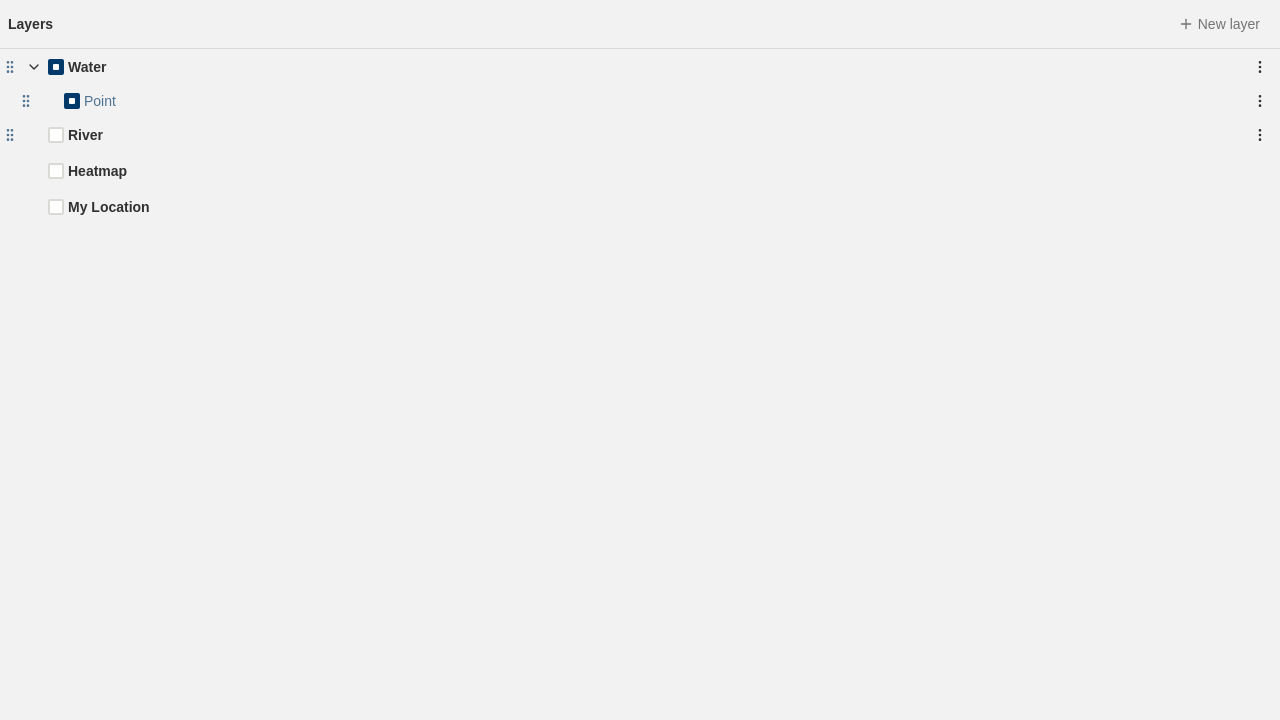
Test: LayerTreePanel › excludes layers the feature already belongs to from the duplicate-to-layer picker
Click the button named "feature options" at (1260, 101), box [1248,89,1272,113]
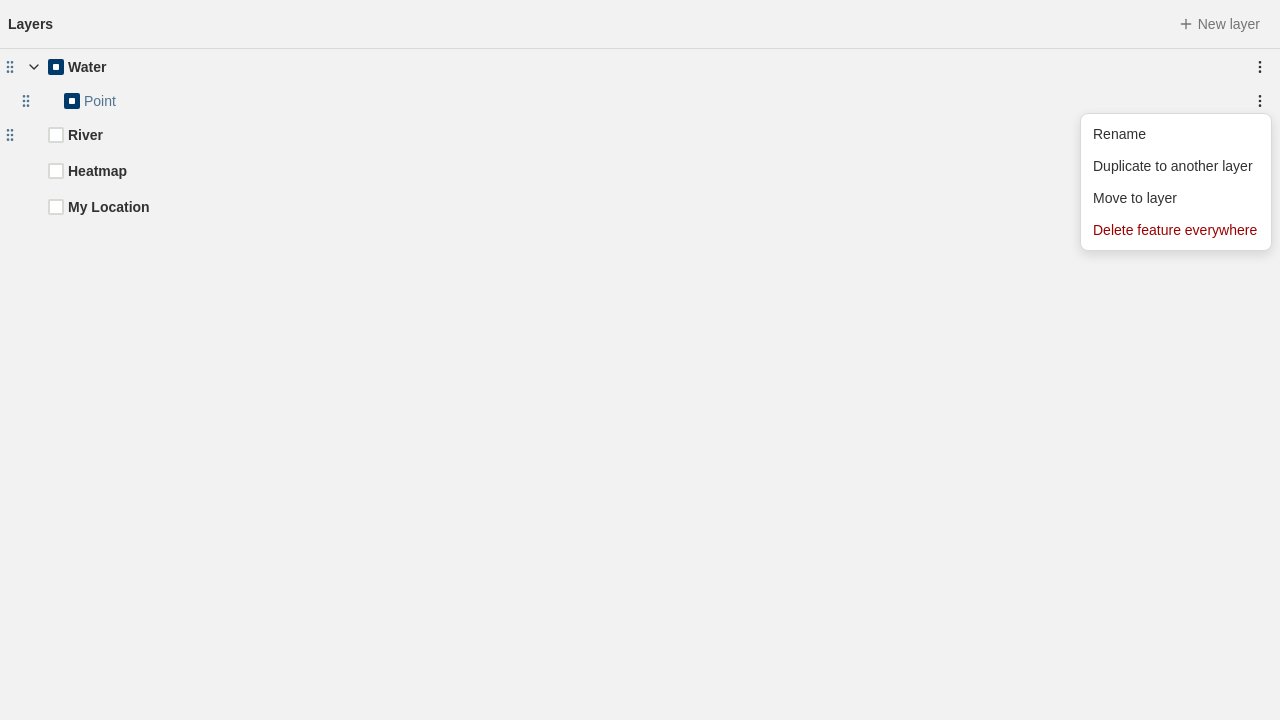
Click the menu item "Duplicate to another layer" at (1173, 166), box [1093,158,1252,174]
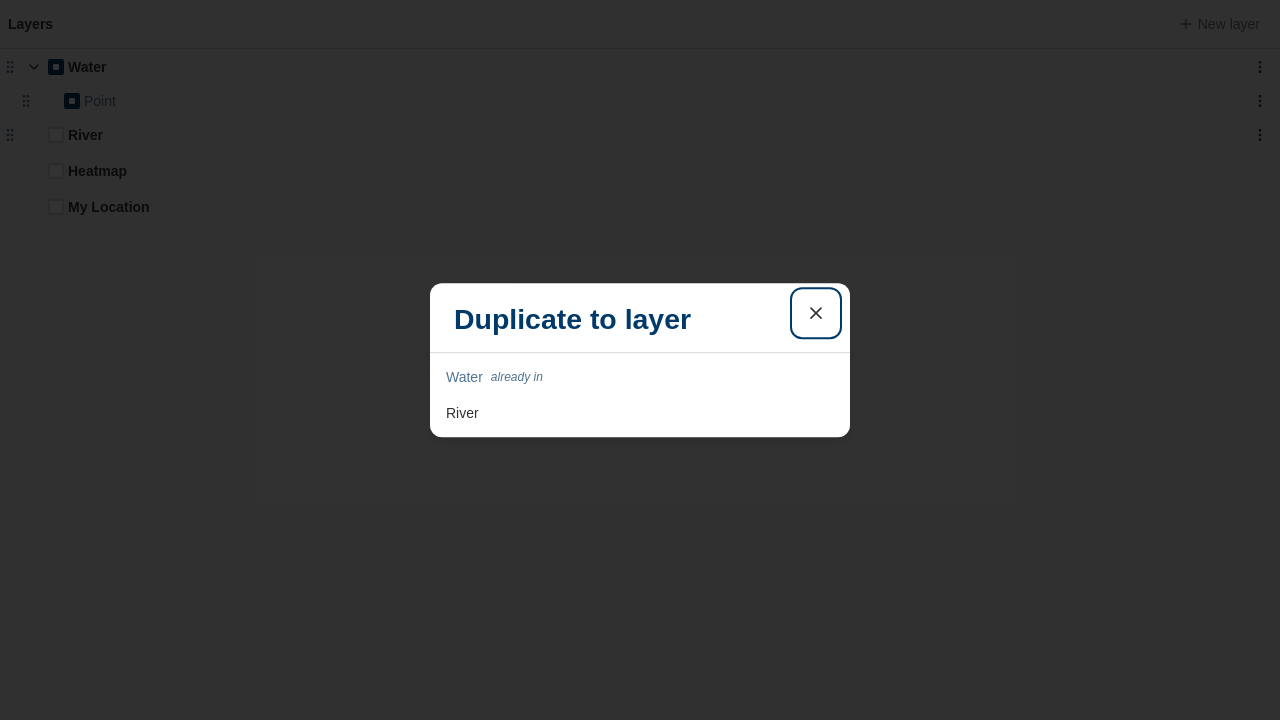
Check: the button "River" is shown
Click the button "River" at (462, 413), box [438,397,842,429]
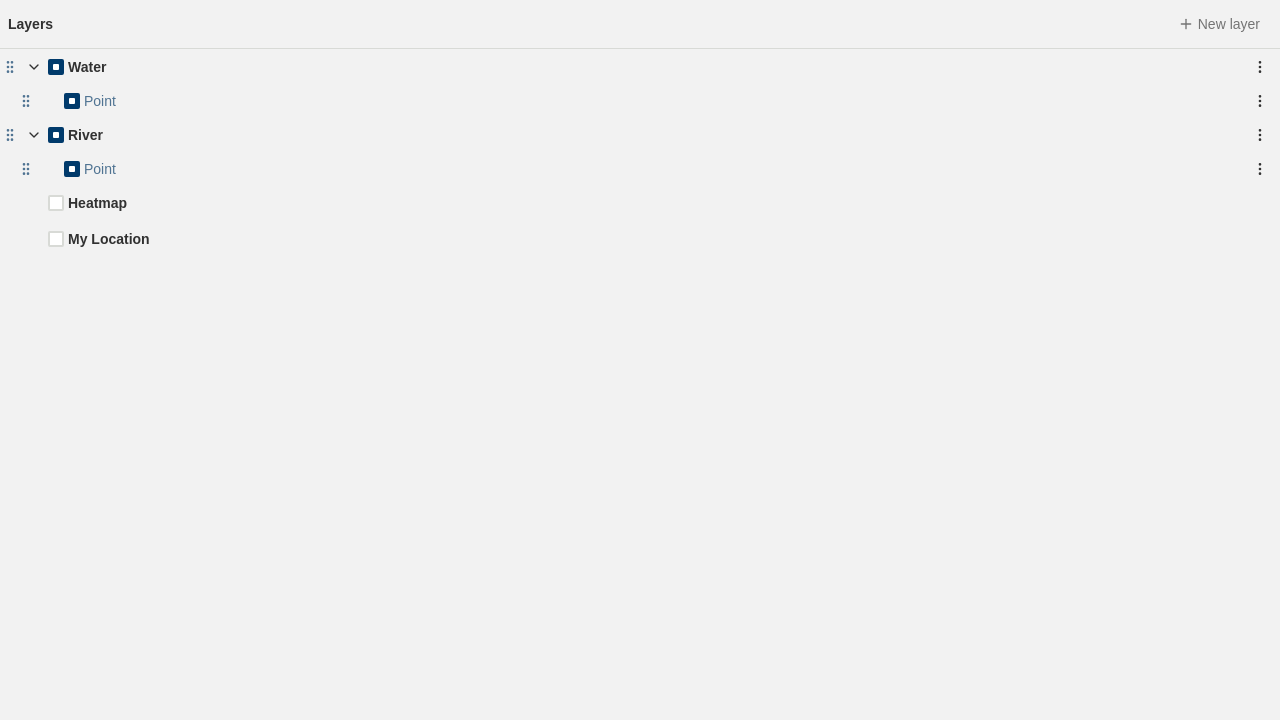
Click the 1st button named "feature options" at (1260, 101), box [1248,89,1272,113]
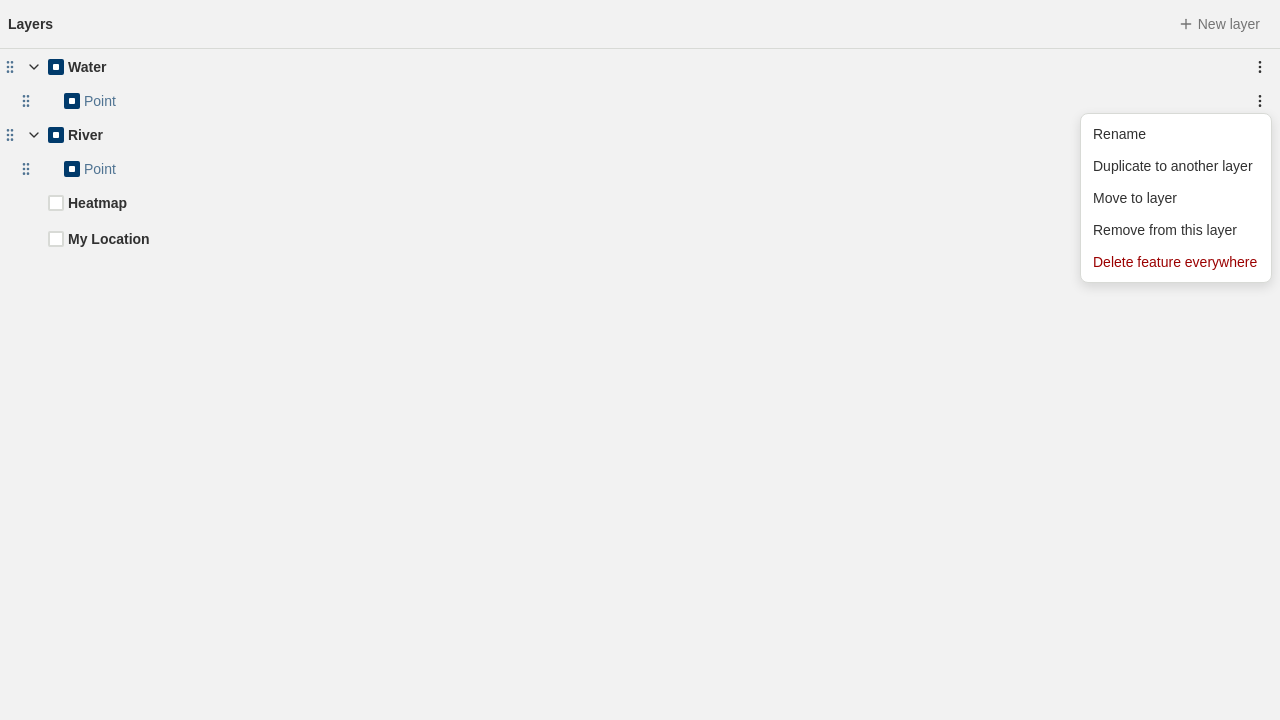
Click the menu item "Duplicate to another layer" at (1173, 166), box [1093,158,1252,174]
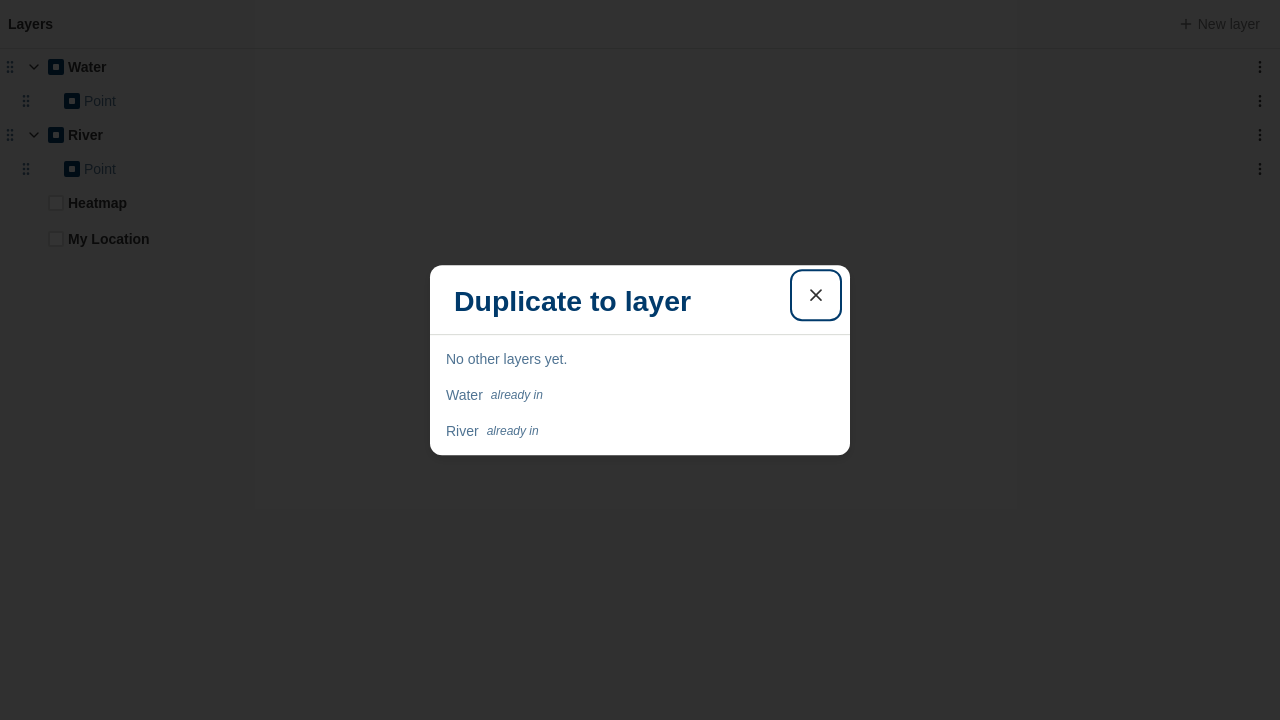
Check: the list item "No other layers yet." is shown, box [446,351,567,367]
